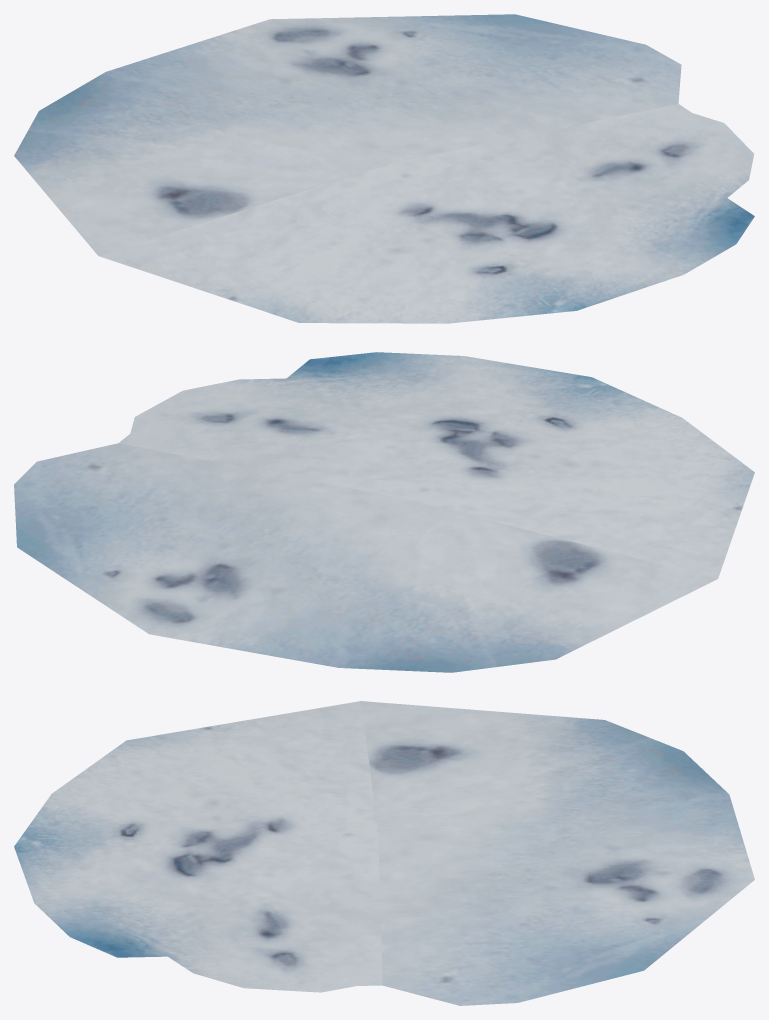
Rendered from bs_binshan_26.FBX.
3 views of the same model, one above another, from view 1: azimuth 30°, elevation 25°; view 2: azimuth 150°, elevation 25°; view 3: azimuth 270°, elevation 25° (orthographic).
Parts seen in each view (by area): view 1: bs_binshan_26; view 2: bs_binshan_26; view 3: bs_binshan_26.
Boxes of the visible parts, bbox=[...] form: bs_binshan_26: bbox=[14, 14, 754, 323]; bs_binshan_26: bbox=[14, 352, 754, 672]; bs_binshan_26: bbox=[14, 701, 754, 1005].
Size of the model in its own units: 647 by 12.08 by 664.
